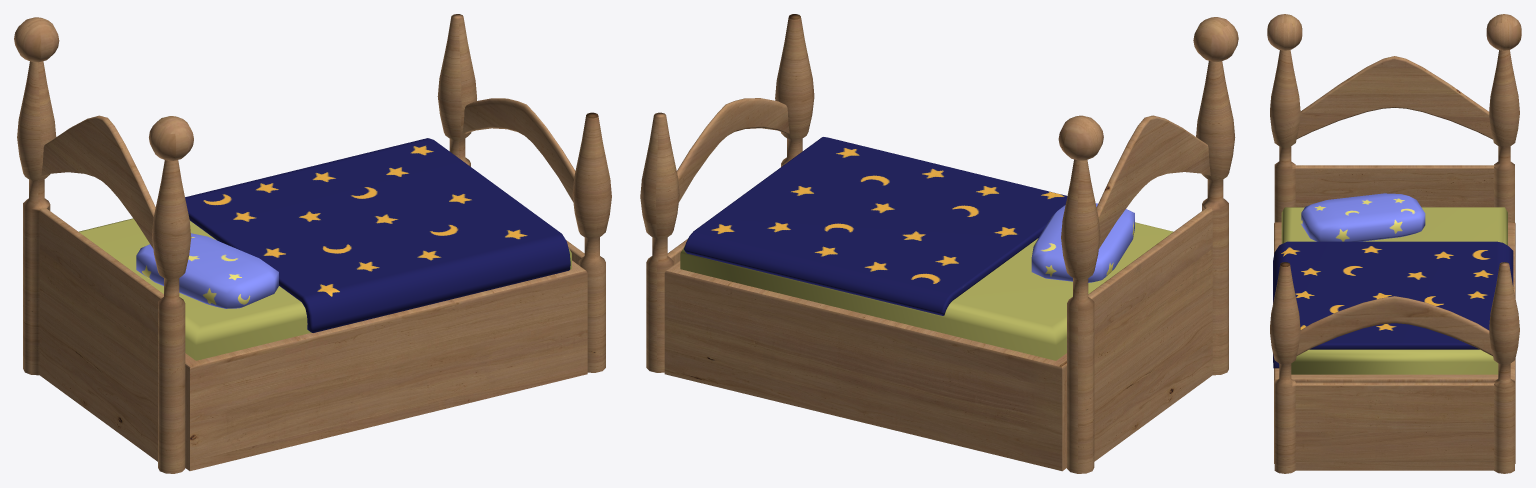
Rendered from Bed.fbx.
3 renders of one model, left to right at view 1: azimuth 30°, elevation 25°; view 2: azimuth 150°, elevation 25°; view 3: azimuth 270°, elevation 25°, orthographic. The views are drawn at different scales.
Parts seen in each view (by area): view 1: Bed; view 2: Bed; view 3: Bed.
Boxes of the visible parts, x1=… form: Bed: x1=14, y1=14, x2=611, y2=473; Bed: x1=640, y1=14, x2=1238, y2=473; Bed: x1=1267, y1=14, x2=1521, y2=473.
Size of the model in its own units: 1.66 by 1.22 by 0.9831.
4 materials, 3 textured.
